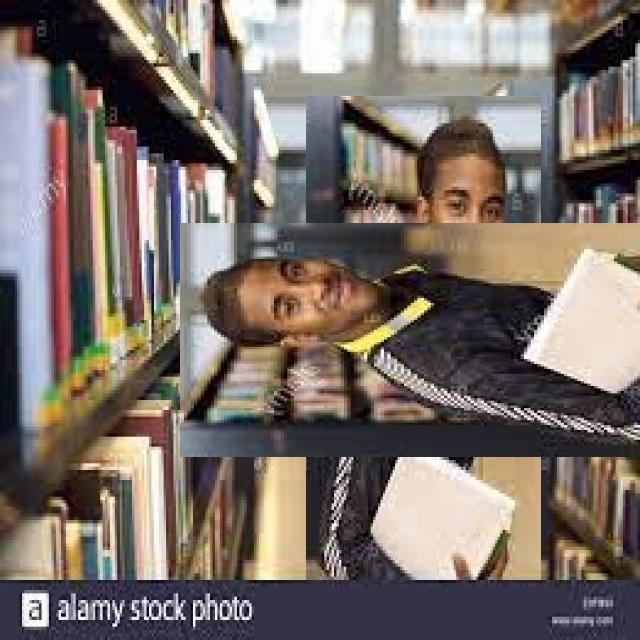NotFall: (137, 208, 640, 543)
